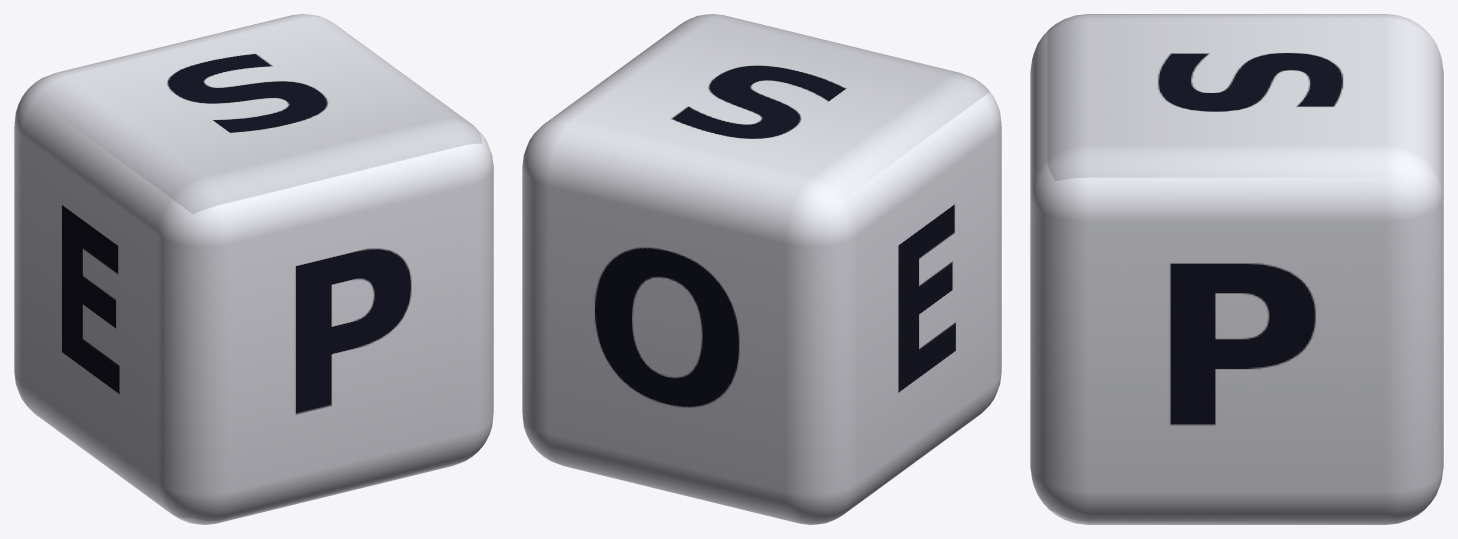
3 views of the same model, side by side, from view 1: azimuth 30°, elevation 25°; view 2: azimuth 150°, elevation 25°; view 3: azimuth 270°, elevation 25° (orthographic). The views are drawn at different scales.
Size of the model in its own units: 1 by 1 by 1.
Materials: 6 (6 with a texture image).
